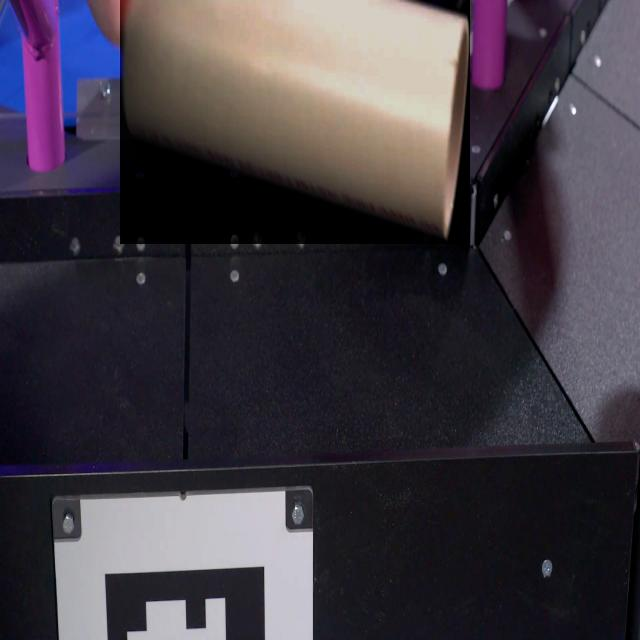Coral: (120, 0, 470, 244)
